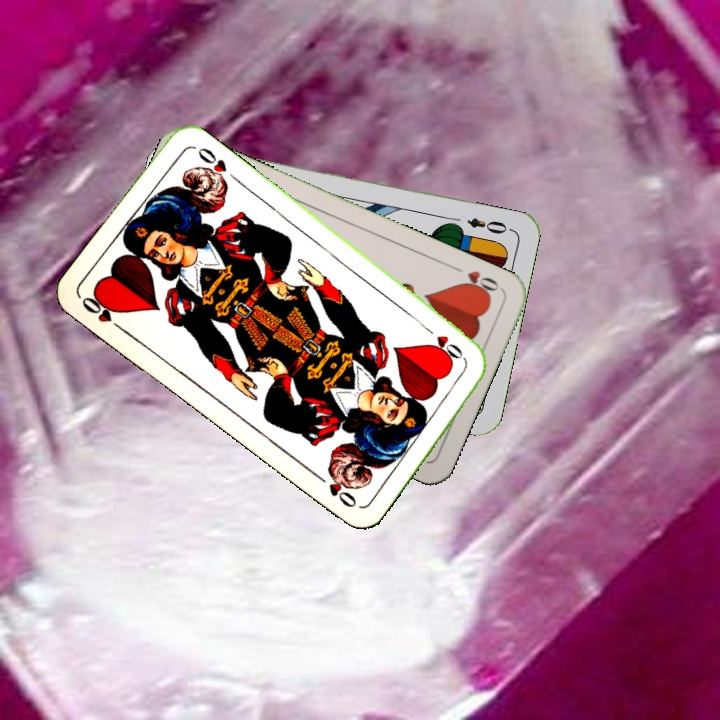EO: (463, 213, 515, 237)
HO: (77, 289, 127, 335), (419, 322, 469, 365), (448, 262, 504, 300)
